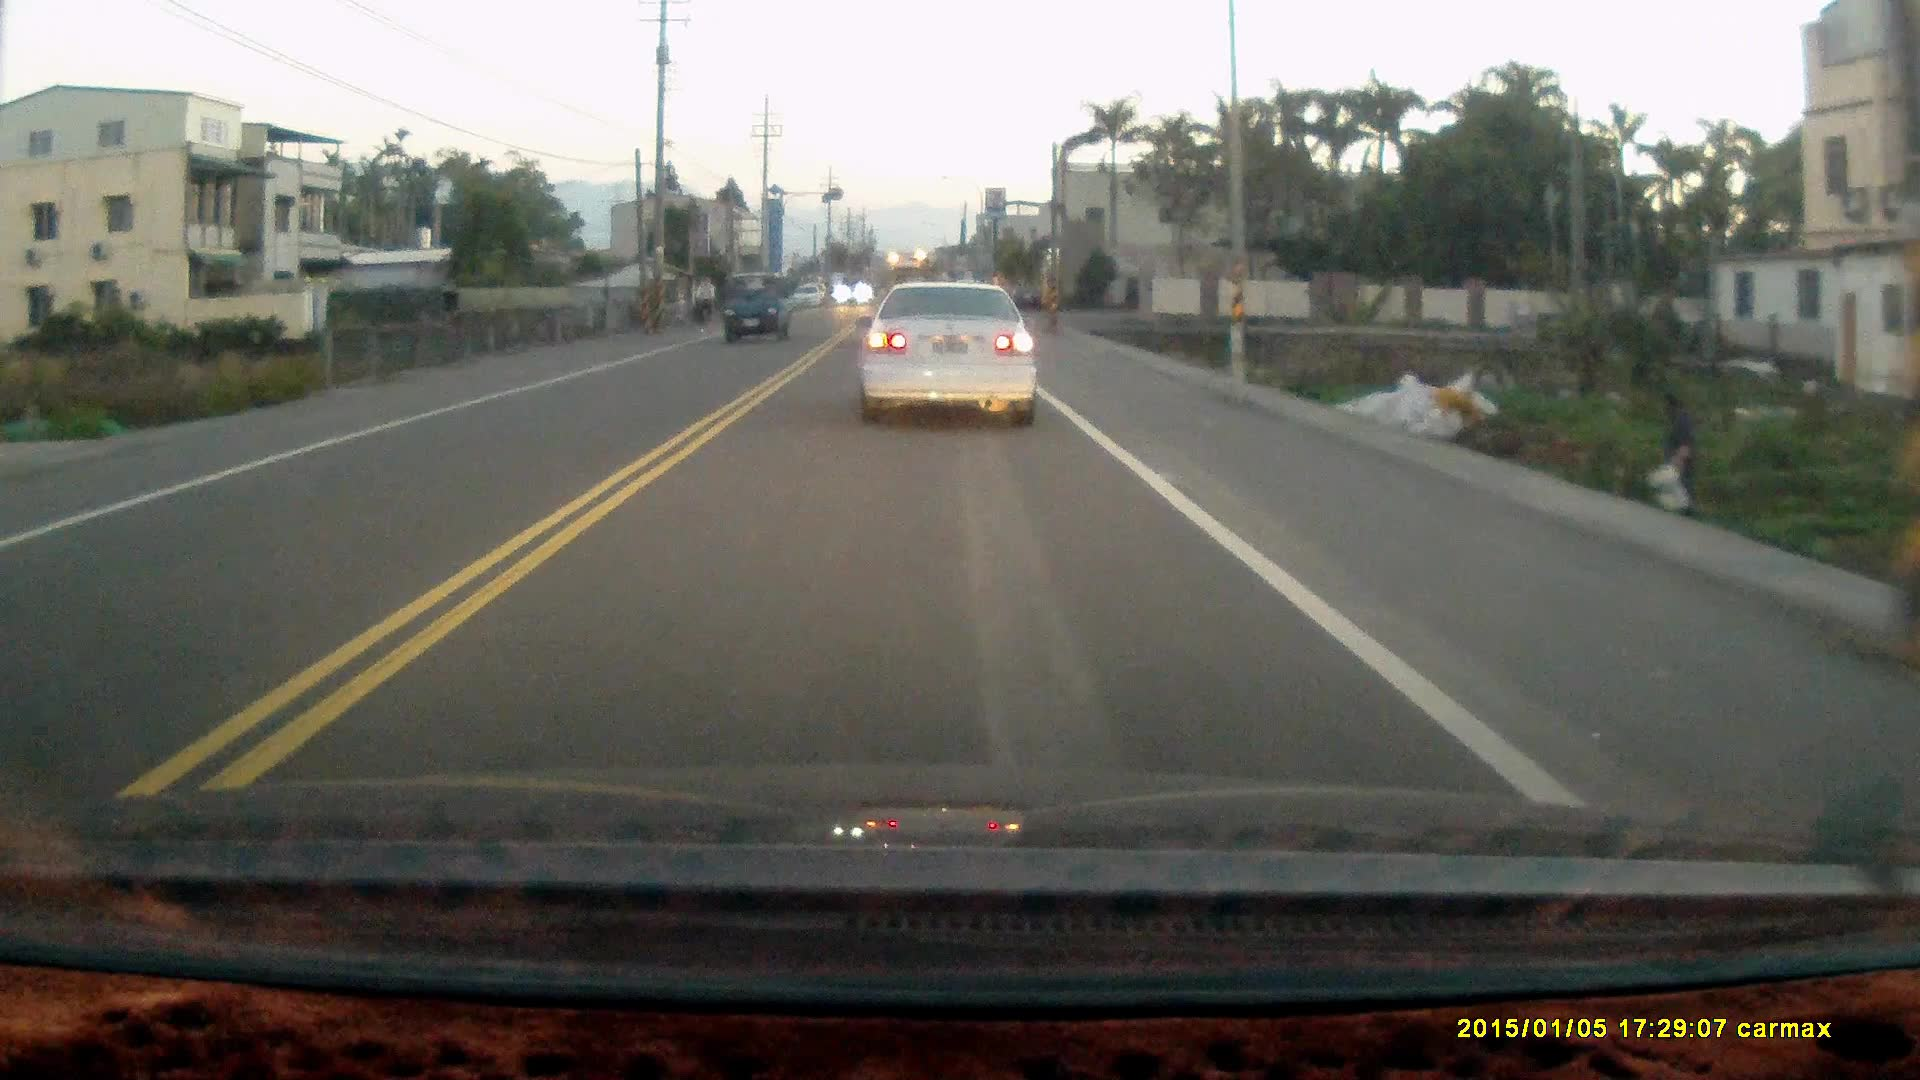pedestrian: (1653, 389, 1698, 525)
rider: (690, 273, 714, 331)
vehicle: (860, 282, 1045, 430), (722, 272, 794, 348), (839, 277, 866, 308), (794, 286, 825, 311)
